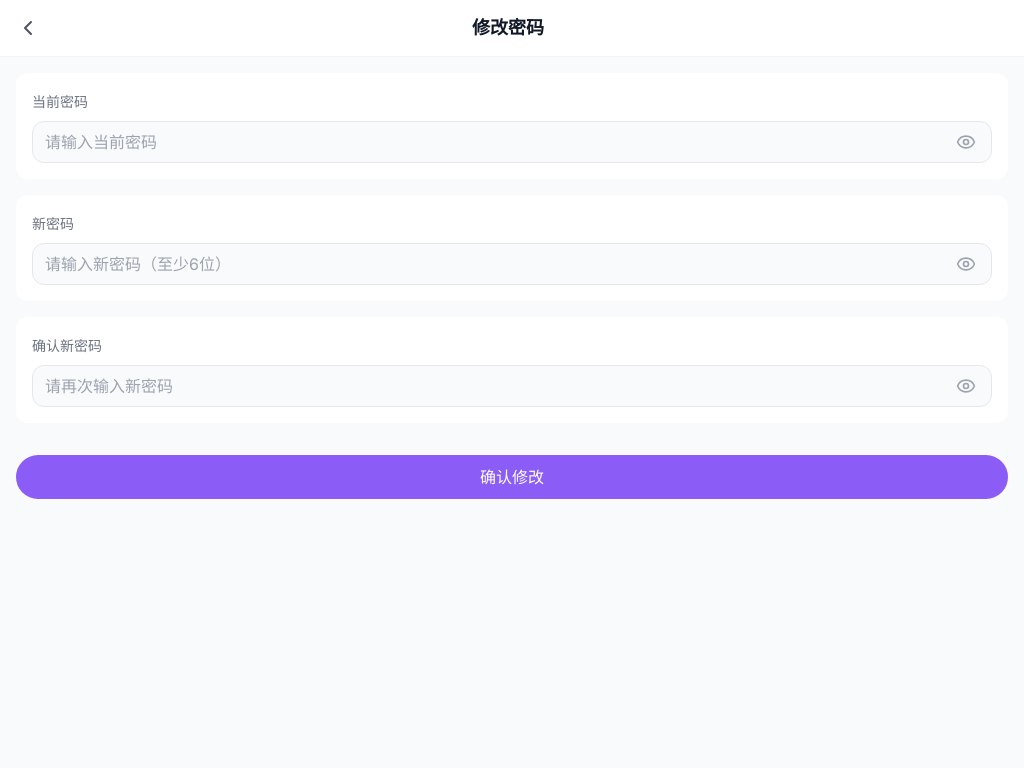
Scenario: ChangePasswordPage › validates old password minimum length
This screenshot has width=1024, height=768.
Type "12345" into the password field with placeholder "请输入当前密码". click: (512, 142)
box: [32, 121, 992, 163]
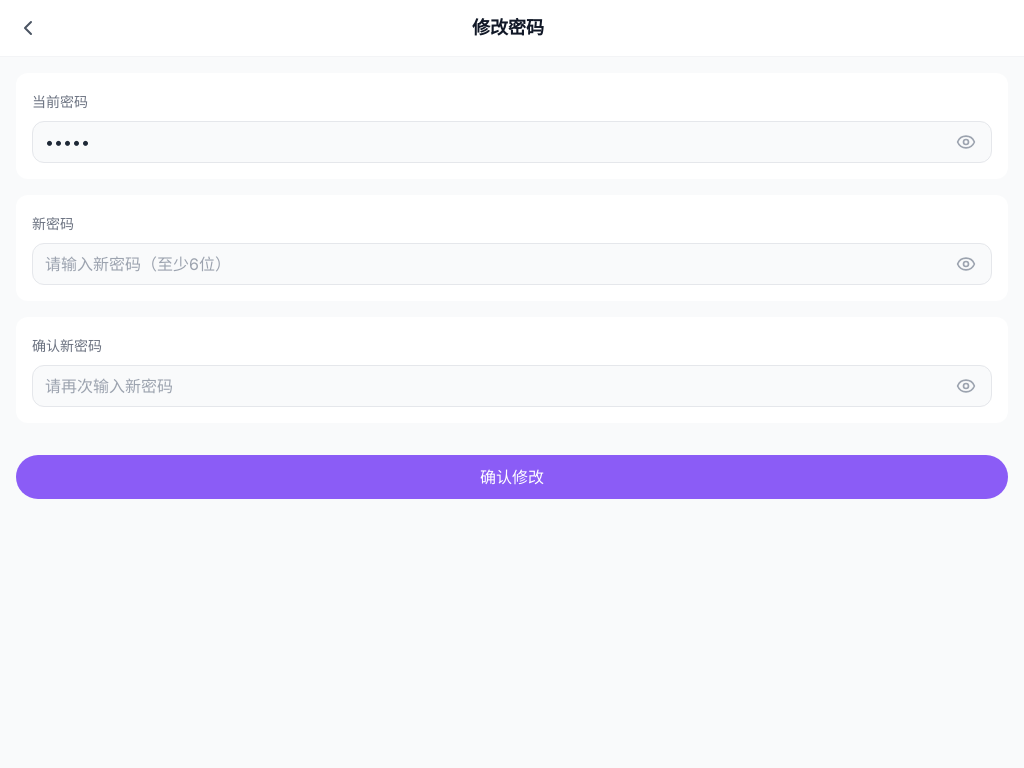
Type "123456" into the password field with placeholder "请输入新密码（至少6位）". click: (512, 264)
box: [32, 243, 992, 285]
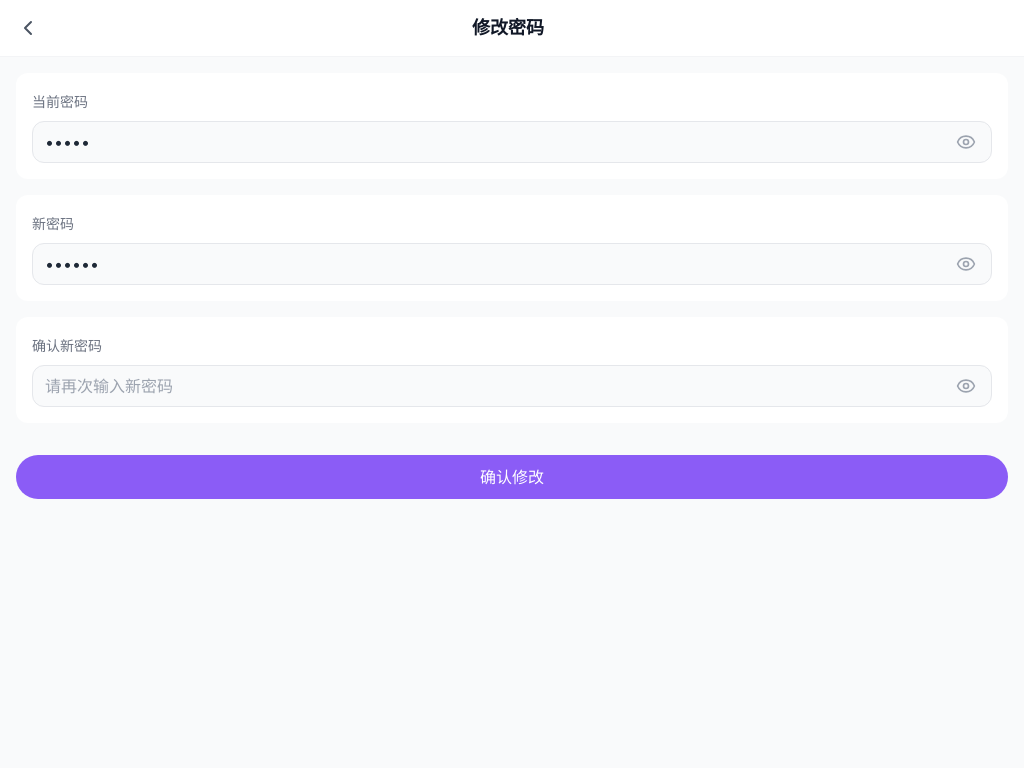
Type "123456" into the password field with placeholder "请再次输入新密码". click: (512, 386)
box: [32, 365, 992, 407]
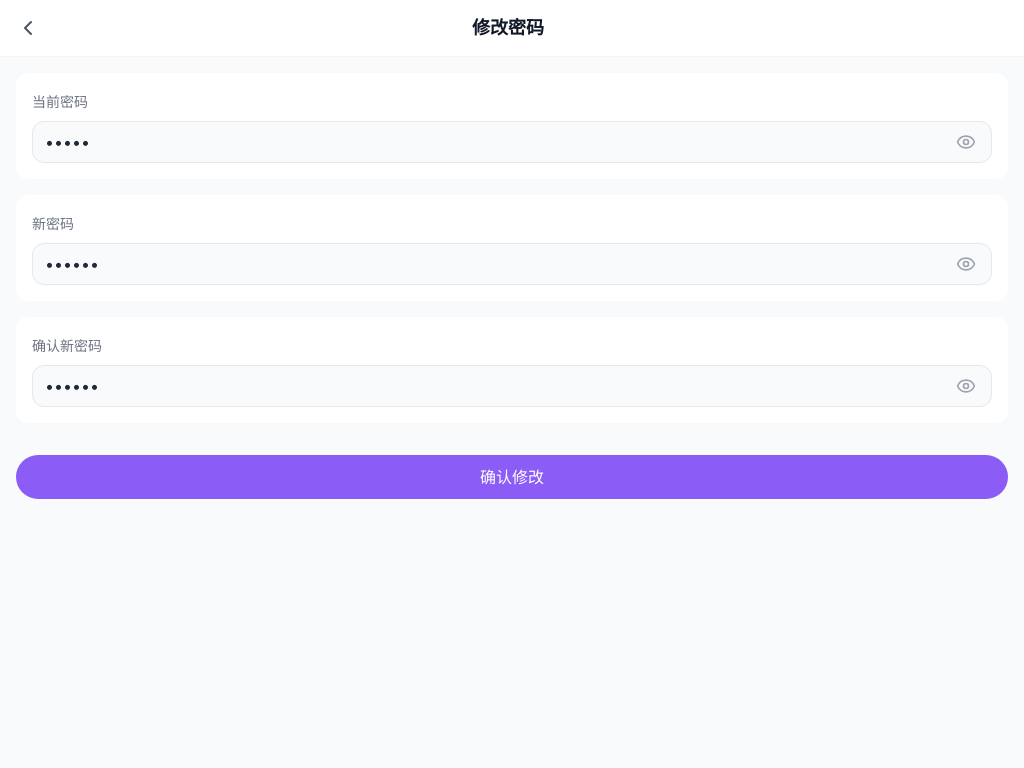
Click the button "确认修改". click: (512, 477)
box: [16, 455, 1008, 499]
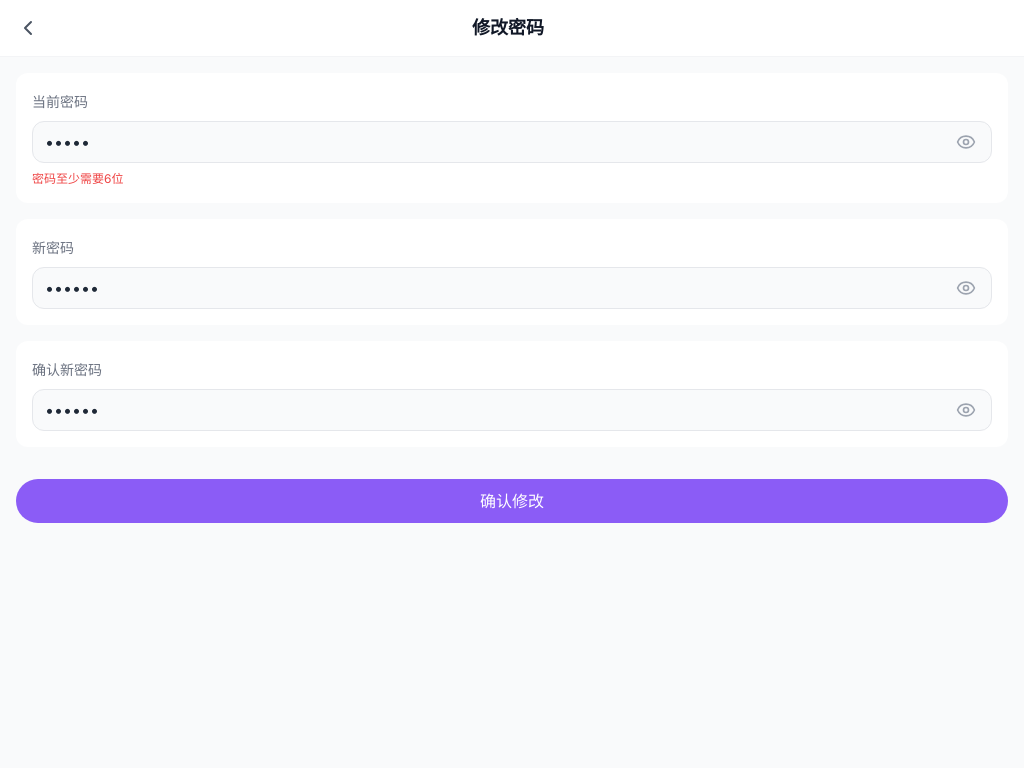
Expected: the text "密码至少需要6位" is shown, [32, 171, 124, 186]
